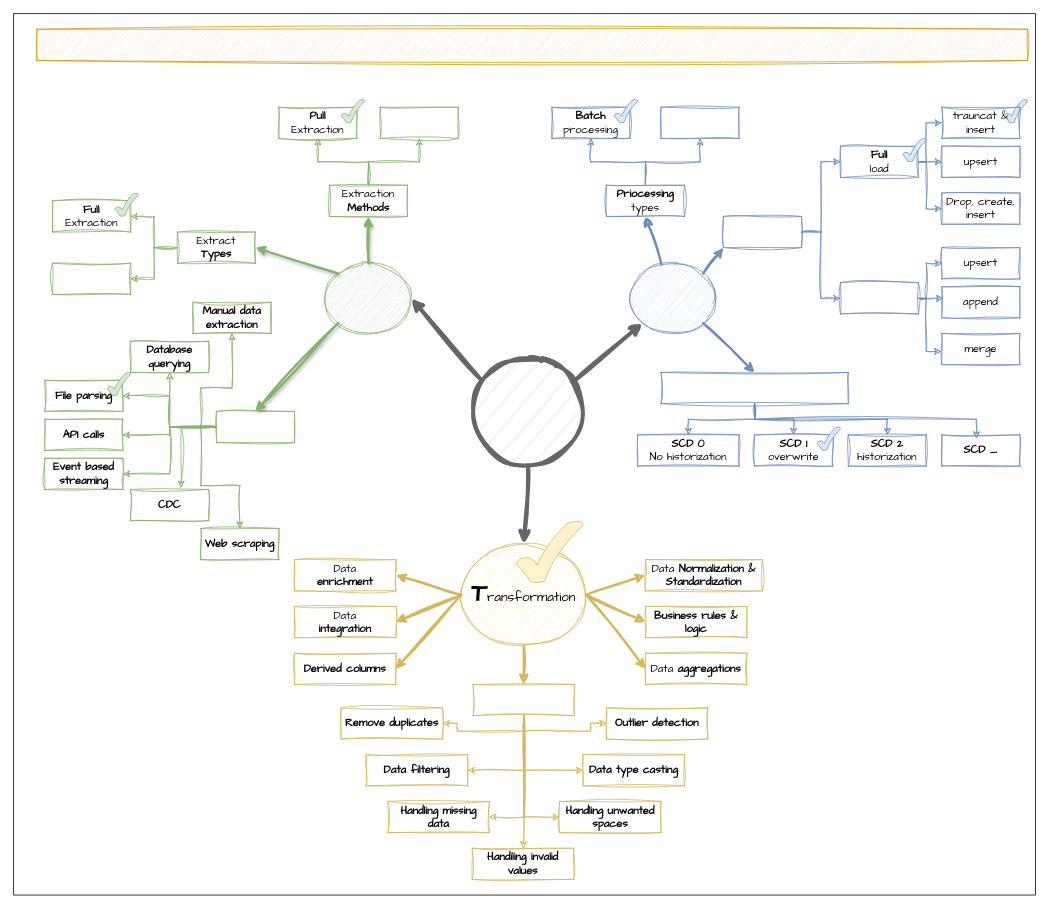
Some shapes in this 1049 by 909 pixel diagram are drawn without their labels. Each missing label, with the centre of its shape:
Data cleaning: [523,700]
E xtraction: [368,297]
ELT: [528,411]
ELT Operations: [532,44]
Extract Techniques: [255,427]
Incremental Extraction: [91,278]
Incremental load: [879,298]
L oad: [672,297]
Load methods: [762,232]
Push Extraction: [418,122]
Slow Changing Dimension SCD: [754,388]
Stream processing: [699,122]
